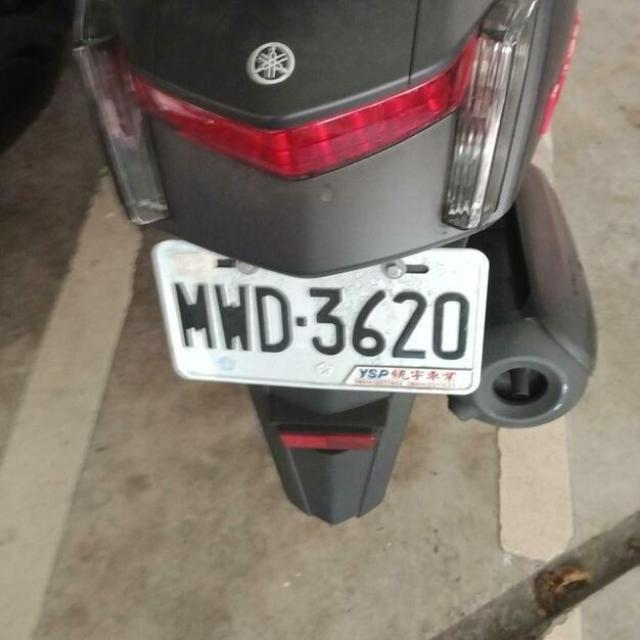W: (139, 223, 498, 408)
